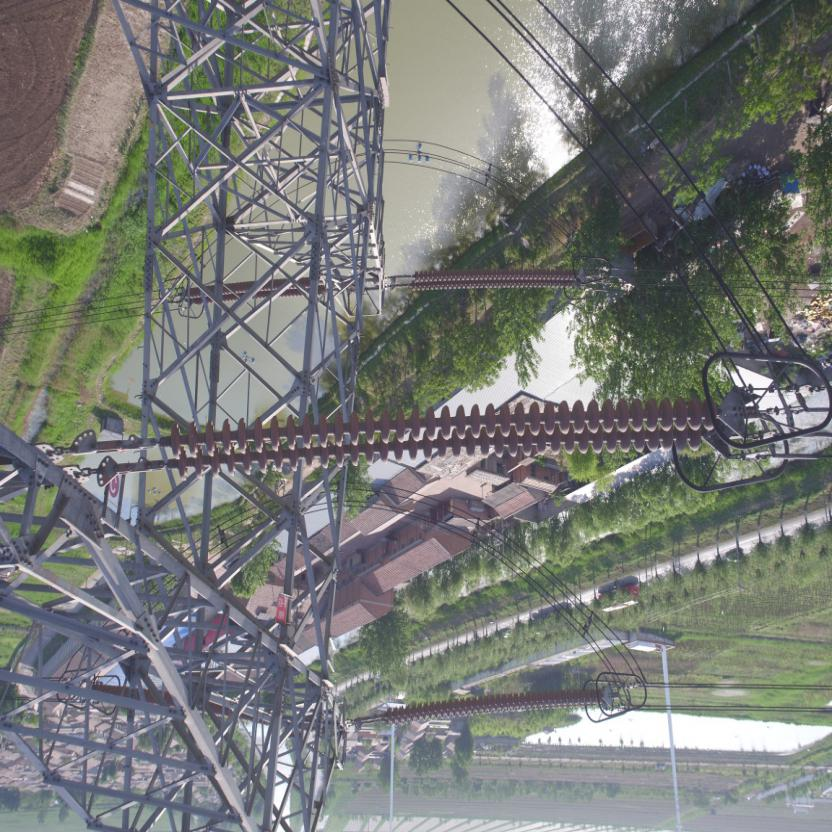insulator: (133, 392, 728, 486), (370, 689, 604, 729), (183, 279, 331, 309), (402, 270, 578, 294)
